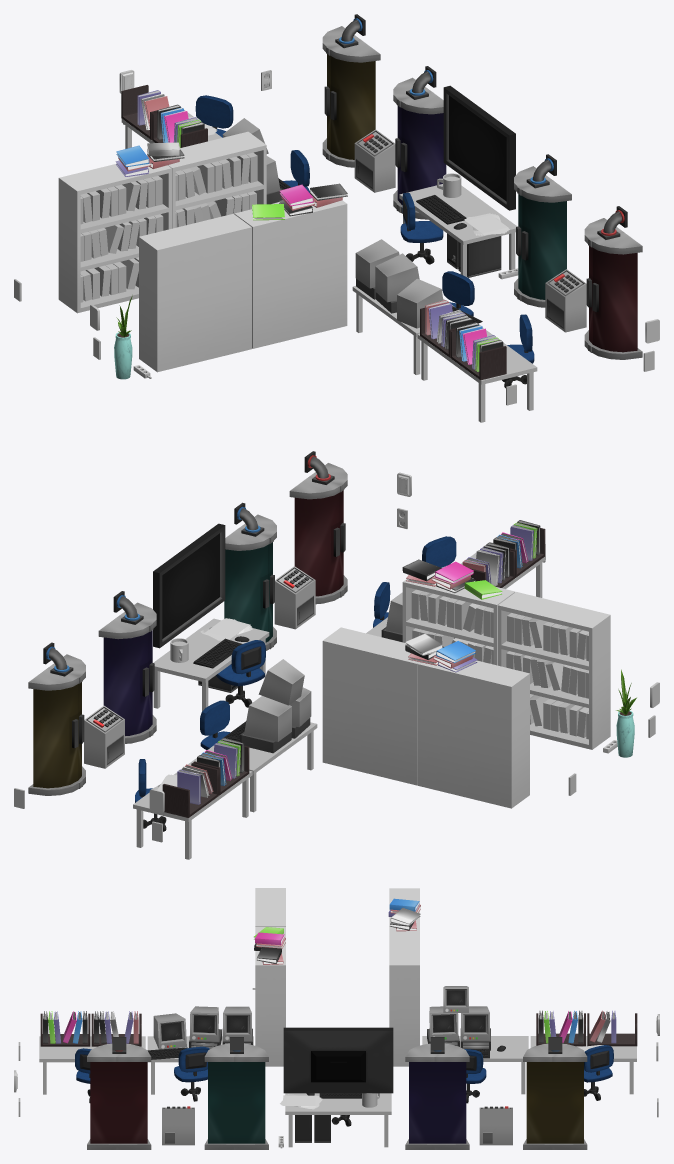
File: Room13Set2.FBX
3 views of the same model, one above another, from view 1: azimuth 30°, elevation 25°; view 2: azimuth 150°, elevation 25°; view 3: azimuth 270°, elevation 25° (orthographic). The views are drawn at different scales.
Parts seen in each view (by area): view 1: bookshelf043, bookshelf044, bookshelf046, Books019, moniter0 003, object095, object088, object093, object090, Books018, bookshelf045, Box571 (+23 smaller); view 2: bookshelf046, bookshelf045, bookshelf043, Books016, moniter0 003, object089, object096, object091, object094, Books017, Box571, bookshelf044 (+18 smaller); view 3: moniter0 003, bookshelf045, object091, object094, bookshelf044, object088, object089, object096, object095, object090, object093, Box571 (+23 smaller).
Boxes of the visible parts, x1,y1,x2,y2 form: bookshelf043: (139, 213, 251, 372); bookshelf044: (234, 200, 347, 348); bookshelf046: (58, 164, 171, 313); Books019: (80, 176, 163, 302); moniter0 003: (443, 85, 515, 210); object095: (588, 232, 642, 359); object088: (326, 39, 380, 167); object093: (517, 181, 571, 307); object090: (396, 91, 446, 219); Books018: (175, 152, 257, 227); bookshelf045: (168, 131, 266, 228); Box571: (399, 184, 517, 276); bookshelf046: (417, 660, 529, 808); bookshelf045: (322, 627, 419, 785); bookshelf043: (498, 592, 610, 749); Books016: (506, 613, 588, 739); moniter0 003: (153, 523, 225, 648); object089: (28, 667, 82, 795); object096: (289, 476, 344, 604); object091: (98, 615, 153, 743); object094: (224, 528, 273, 650); Books017: (411, 589, 493, 664); Box571: (153, 618, 269, 711); bookshelf044: (402, 579, 515, 665); moniter0 003: (283, 1027, 393, 1093); bookshelf045: (389, 926, 419, 1066); object091: (434, 1043, 469, 1149); object094: (234, 1043, 268, 1149); bookshelf044: (255, 927, 285, 1066); object088: (523, 1043, 557, 1149); object089: (552, 1043, 587, 1149); object096: (116, 1043, 151, 1149); object095: (87, 1043, 121, 1149); object090: (405, 1043, 440, 1149); object093: (204, 1043, 239, 1149); Box571: (285, 1093, 391, 1147).
Size of the model in its own units: 78.2 by 24.28 by 120.
